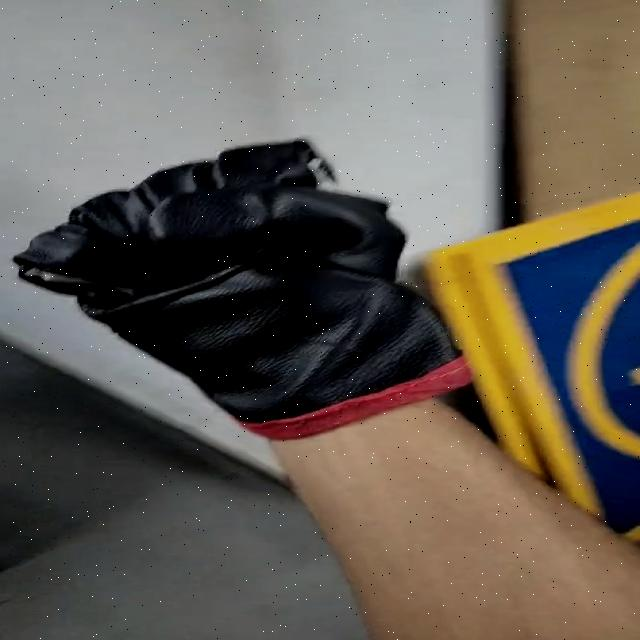Gloves: (18, 140, 473, 440)
